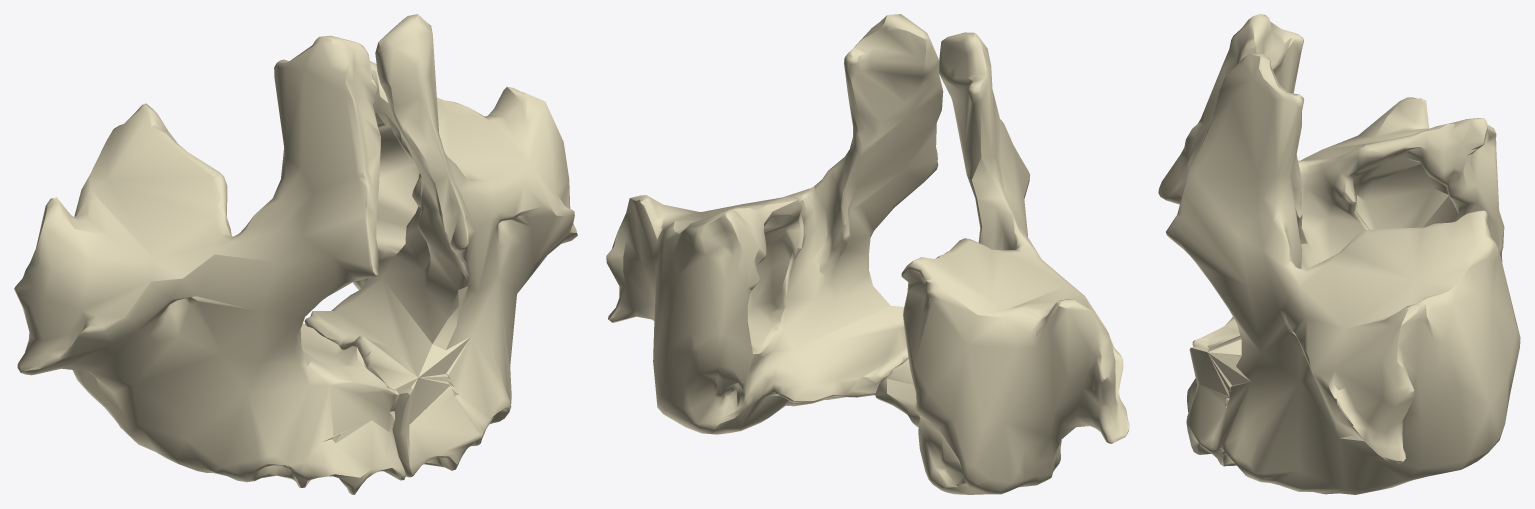
Rendered from maxilla.glb.
3 renders of one model, left to right at view 1: azimuth 30°, elevation 25°; view 2: azimuth 150°, elevation 25°; view 3: azimuth 270°, elevation 25°, orthographic. The views are drawn at different scales.
Parts seen in each view (by area): view 1: Maxilla; view 2: Maxilla; view 3: Maxilla.
Part boxes in pixels (bbox=[...]): Maxilla: bbox=[14, 14, 577, 494]; Maxilla: bbox=[606, 14, 1129, 494]; Maxilla: bbox=[1158, 14, 1520, 494].
Bounding box in the file's own units: 0.0933 × 0.0694 × 0.0572.
